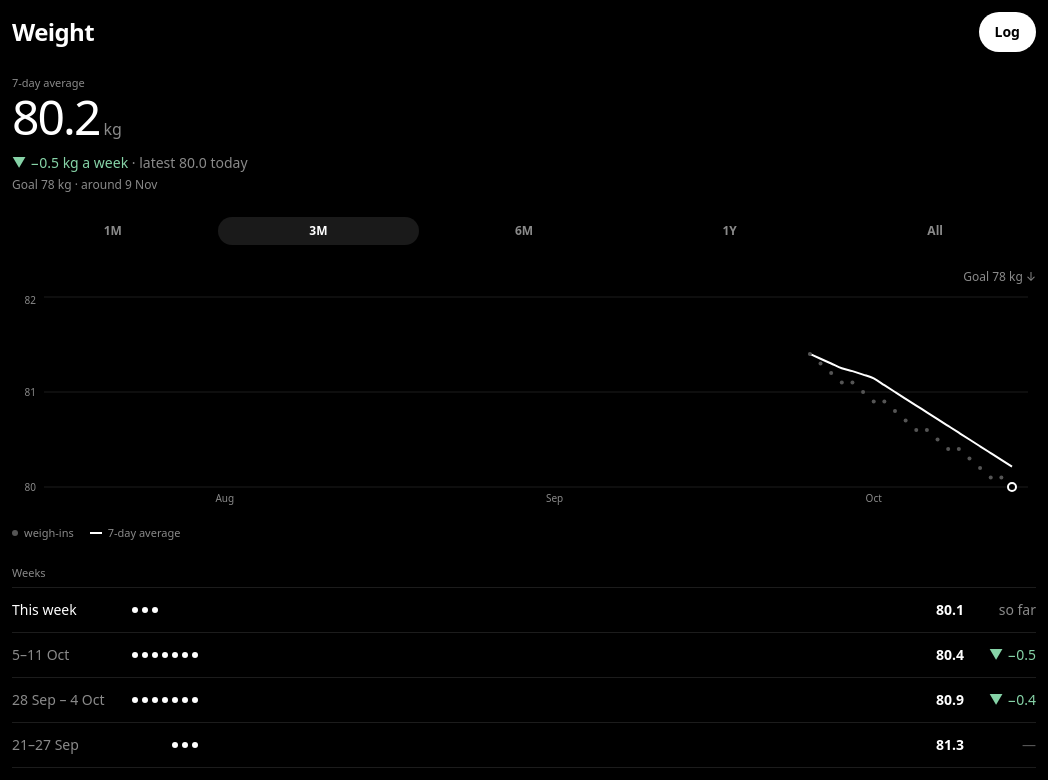
it: Weight page › lists weeks for 3M and months for 6M
The width and height of the screenshot is (1048, 780).
Expected: the text "Weeks" is shown, x1=12 y1=565 x2=46 y2=580
Expected: the button "This week 80.1 so far" is shown, x1=12 y1=588 x2=1036 y2=632
Click the button "6M".
click(524, 231)  # box x1=423 y1=217 x2=625 y2=245
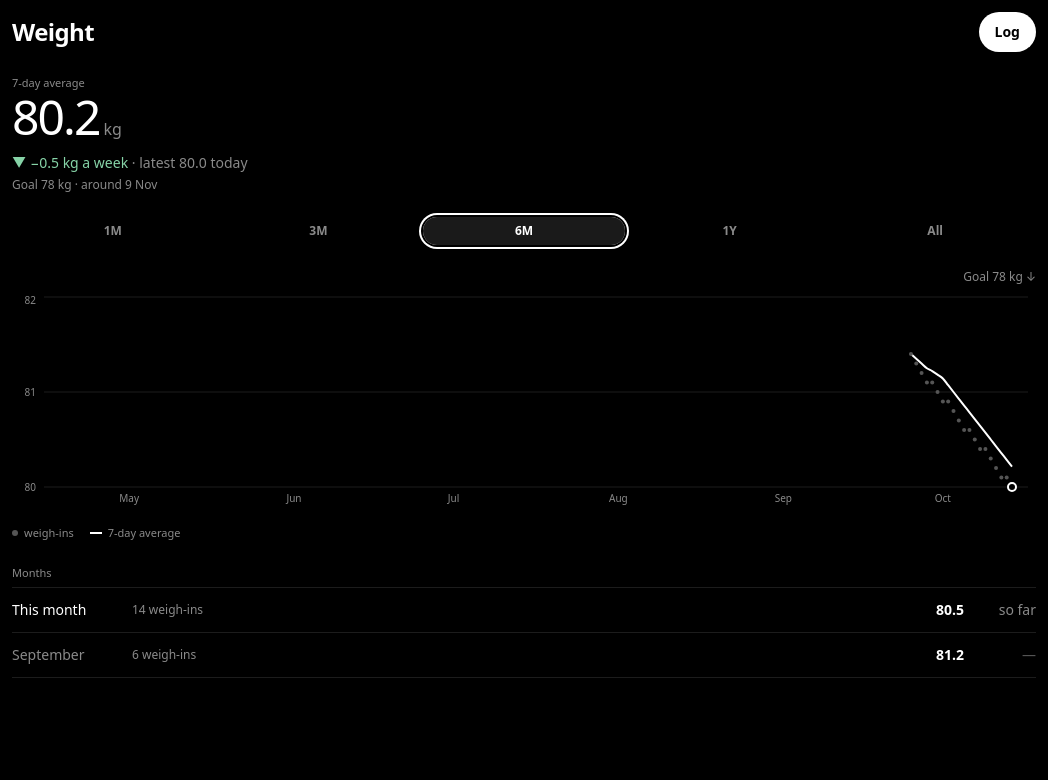
Expected: the text "Months" is shown, x1=12 y1=565 x2=52 y2=580
Expected: the button "This month 14 weigh-ins 80.5 so far" is shown, x1=12 y1=588 x2=1036 y2=632
